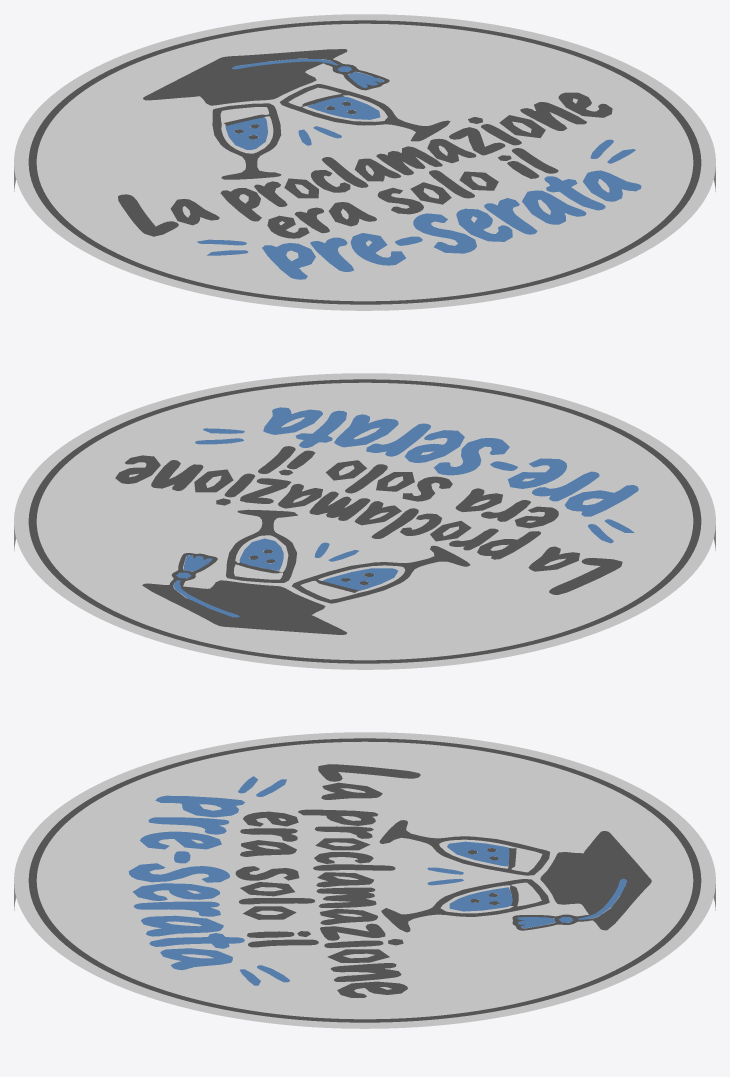
The model's file is sottobicchiere-proclamazione-pre-serata.glb.
3 renders of one model, top to bottom at view 1: azimuth 30°, elevation 25°; view 2: azimuth 150°, elevation 25°; view 3: azimuth 270°, elevation 25°, orthographic.
Visible parts, largest first — view 1: coaster_base, coaster_ink, coaster_accent; view 2: coaster_base, coaster_ink, coaster_accent; view 3: coaster_base, coaster_ink, coaster_accent.
Boxes of the visible parts, x1,y1,x2,y2 form: coaster_base: (14,14,715,310); coaster_ink: (28,20,701,304); coaster_accent: (197,59,641,279); coaster_base: (14,373,715,669); coaster_ink: (28,379,701,663); coaster_accent: (174,407,638,617); coaster_base: (14,732,715,1028); coaster_ink: (28,738,701,1022); coaster_accent: (128,776,626,985).
Size of the model in its own units: 0.075 by 0.004 by 0.075.
